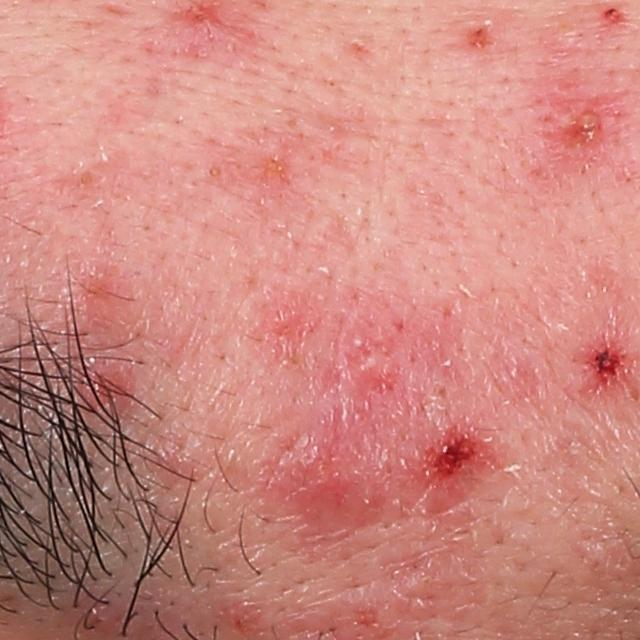comedo: (207, 162, 224, 178)
papule: (263, 435, 355, 521), (415, 415, 493, 497), (254, 300, 312, 354), (81, 356, 138, 410), (579, 338, 627, 382), (594, 4, 630, 33)
pustule: (534, 87, 603, 154)
